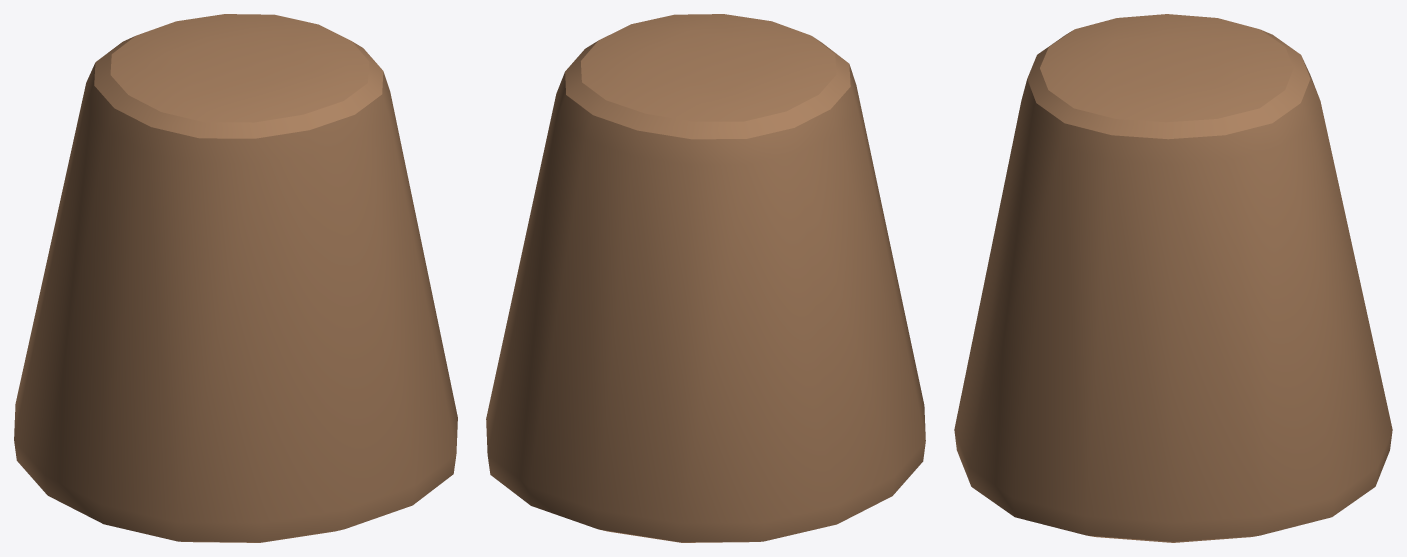
Rendered from RockPlatform_Tall_002.gltf.
3 renders of one model, left to right at view 1: azimuth 30°, elevation 25°; view 2: azimuth 150°, elevation 25°; view 3: azimuth 270°, elevation 25°, orthographic.
Parts seen in each view (by area): view 1: RockPlatform_Tall.002; view 2: RockPlatform_Tall.002; view 3: RockPlatform_Tall.002.
Boxes of the visible parts, left/top/right/bottom form: RockPlatform_Tall.002: left=14, top=14, right=457, bottom=542; RockPlatform_Tall.002: left=486, top=14, right=925, bottom=542; RockPlatform_Tall.002: left=954, top=14, right=1392, bottom=542.
Size of the model in its own units: 3.22 by 3.28 by 3.22.
